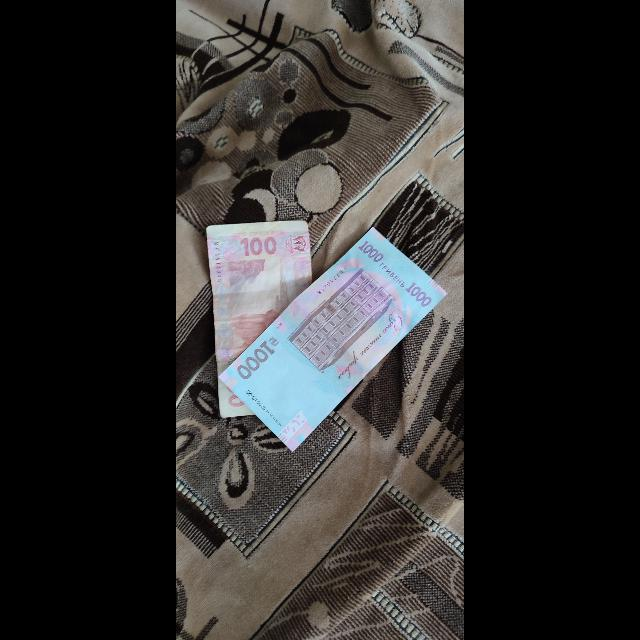1000uah: (221, 227, 445, 453)
100uah: (205, 221, 315, 373)
